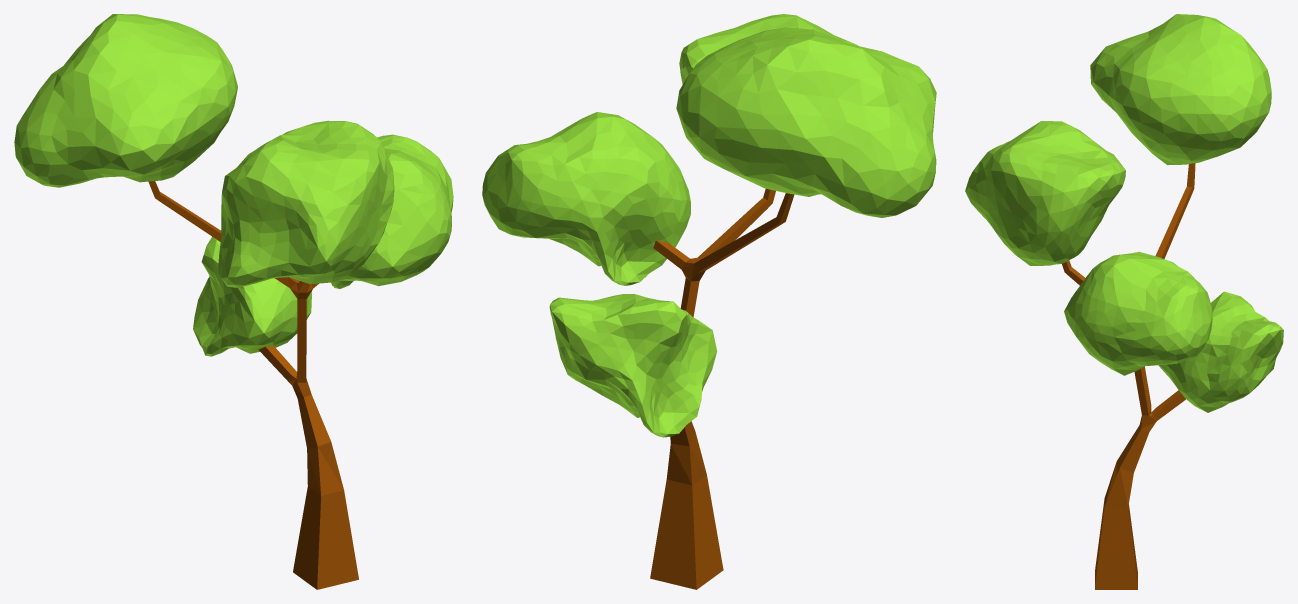
File: tree1.fbx
The picture shows the model from 3 angles, left to right: view 1: azimuth 30°, elevation 25°; view 2: azimuth 150°, elevation 25°; view 3: azimuth 270°, elevation 25°; orthographic projection. The views are drawn at different scales.
Visible parts, largest first — view 1: Icosphere, Icosphere.001, Cube, Icosphere.003, Icosphere.002; view 2: Icosphere, Icosphere.003, Icosphere.002, Cube, Icosphere.001; view 3: Icosphere, Icosphere.001, Icosphere.003, Icosphere.002, Cube.
Part boxes in pixels (left/top/right/bottom): Icosphere: left=14, top=14, right=237, bottom=187; Icosphere.001: left=218, top=120, right=394, bottom=287; Cube: left=148, top=181, right=358, bottom=589; Icosphere.003: left=331, top=134, right=453, bottom=288; Icosphere.002: left=193, top=236, right=311, bottom=356; Icosphere: left=676, top=27, right=936, bottom=217; Icosphere.003: left=482, top=112, right=690, bottom=285; Icosphere.002: left=549, top=294, right=717, bottom=437; Cube: left=650, top=189, right=794, bottom=589; Icosphere.001: left=679, top=14, right=857, bottom=84; Icosphere: left=1090, top=14, right=1271, bottom=165; Icosphere.001: left=965, top=121, right=1125, bottom=265; Icosphere.003: left=1064, top=251, right=1212, bottom=375; Icosphere.002: left=1158, top=291, right=1283, bottom=412; Cube: left=1062, top=163, right=1195, bottom=589.
Bounding box in the file's own units: 277 × 360 × 210.
